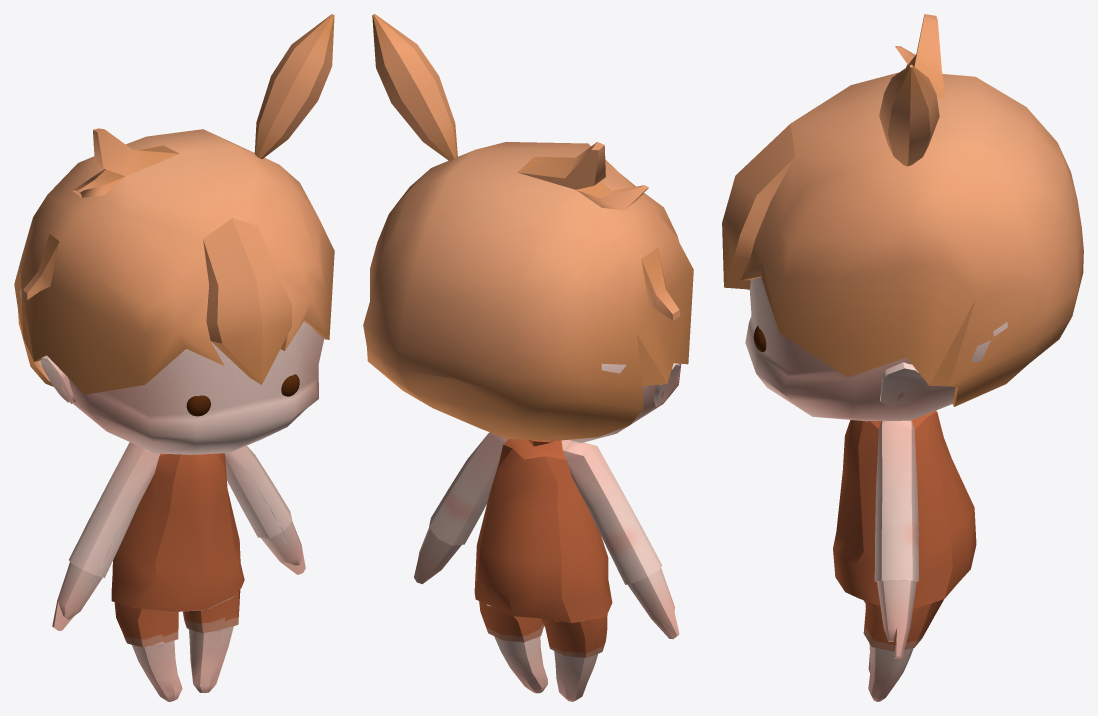
Rendered from idle02-2.fbx.
The picture shows the model from 3 angles, left to right: view 1: azimuth 30°, elevation 25°; view 2: azimuth 150°, elevation 25°; view 3: azimuth 270°, elevation 25°; orthographic projection. The views are drawn at different scales.
Visible parts, largest first — view 1: pasted__pCube14, pasted__pasted__polySurface3; view 2: pasted__pCube14, pasted__pasted__polySurface3; view 3: pasted__pCube14, pasted__pasted__polySurface3.
Part boxes in pixels (box(x1,y1,x2,y2)): pasted__pCube14: box(14, 14, 334, 394); pasted__pasted__polySurface3: box(20, 288, 323, 701); pasted__pCube14: box(363, 14, 693, 440); pasted__pasted__polySurface3: box(414, 363, 681, 701); pasted__pCube14: box(722, 14, 1083, 406); pasted__pasted__polySurface3: box(745, 277, 1007, 701).
Size of the model in its own units: 1.1 by 2.19 by 1.01.
